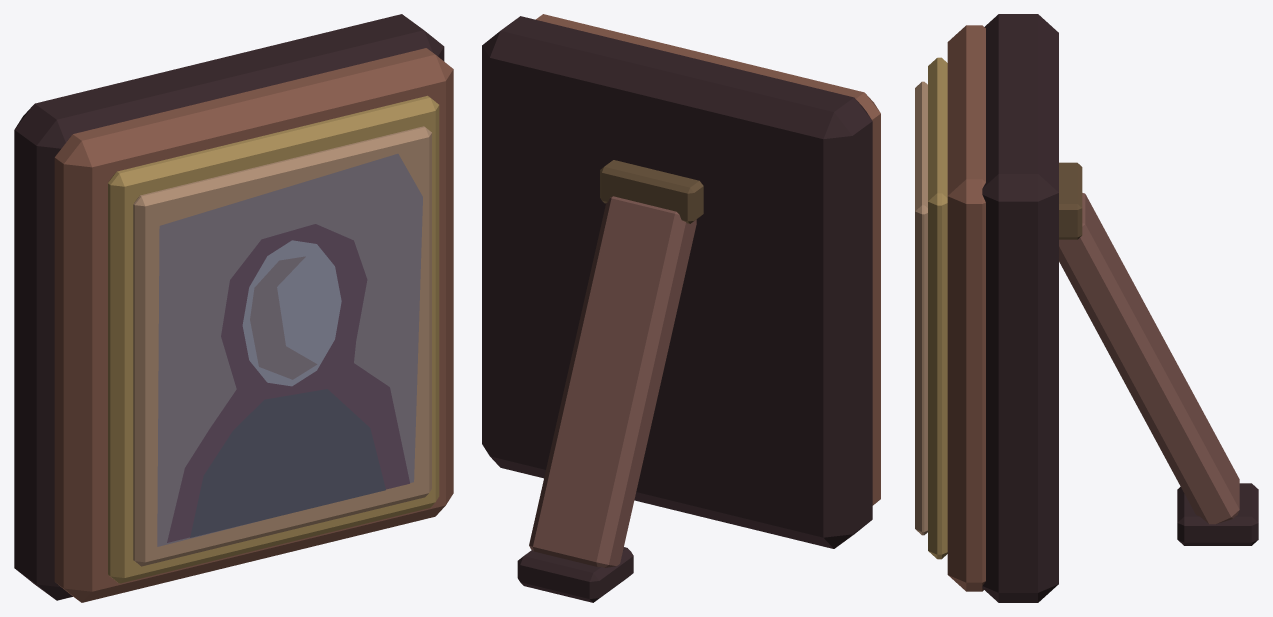
File: faceless_photo.glb
3 renders of one model, left to right at view 1: azimuth 30°, elevation 25°; view 2: azimuth 150°, elevation 25°; view 3: azimuth 270°, elevation 25°, orthographic. The views are drawn at different scales.
Visible parts, largest first — view 1: faceless_photo; view 2: faceless_photo; view 3: faceless_photo.
Part boxes in pixels (bbox=[...]): faceless_photo: bbox=[14, 14, 453, 602]; faceless_photo: bbox=[482, 14, 880, 602]; faceless_photo: bbox=[915, 14, 1258, 602].
Bounding box in the file's own units: 0.181 × 0.207 × 0.1505.
